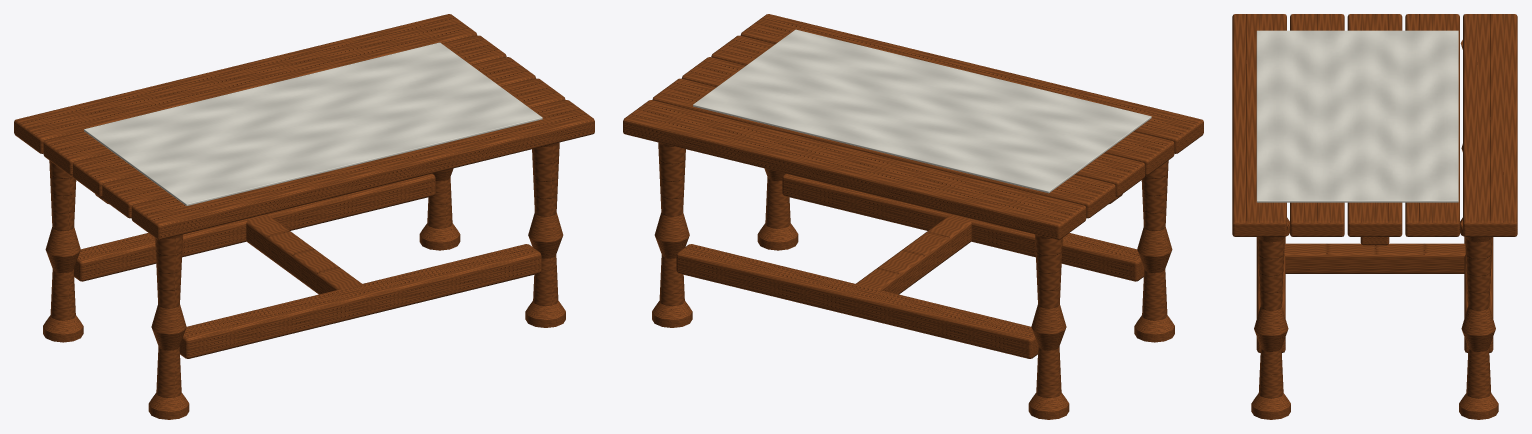
File: witch-cottage-and-apothecary-scrubbed-table-5d06a8da__32450.glb
3 views of the same model, side by side, from view 1: azimuth 30°, elevation 25°; view 2: azimuth 150°, elevation 25°; view 3: azimuth 270°, elevation 25° (orthographic).
Visible parts, largest first — view 1: scrubbed-table; view 2: scrubbed-table; view 3: scrubbed-table.
Boxes of the visible parts, x1,y1,x2,y2 form: scrubbed-table: [14, 14, 594, 419]; scrubbed-table: [623, 14, 1203, 419]; scrubbed-table: [1232, 14, 1517, 419].
Size of the model in its own units: 1.72 by 0.7881 by 0.9901.
2 materials, 2 textured.
